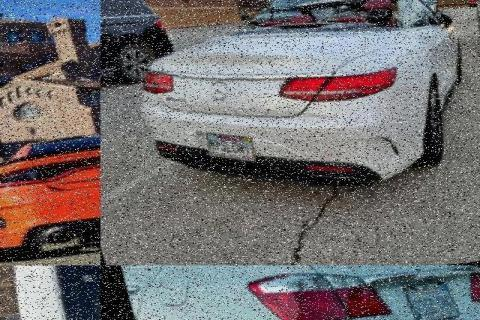LicensePlate: (399, 282, 457, 319), (200, 132, 251, 163)
